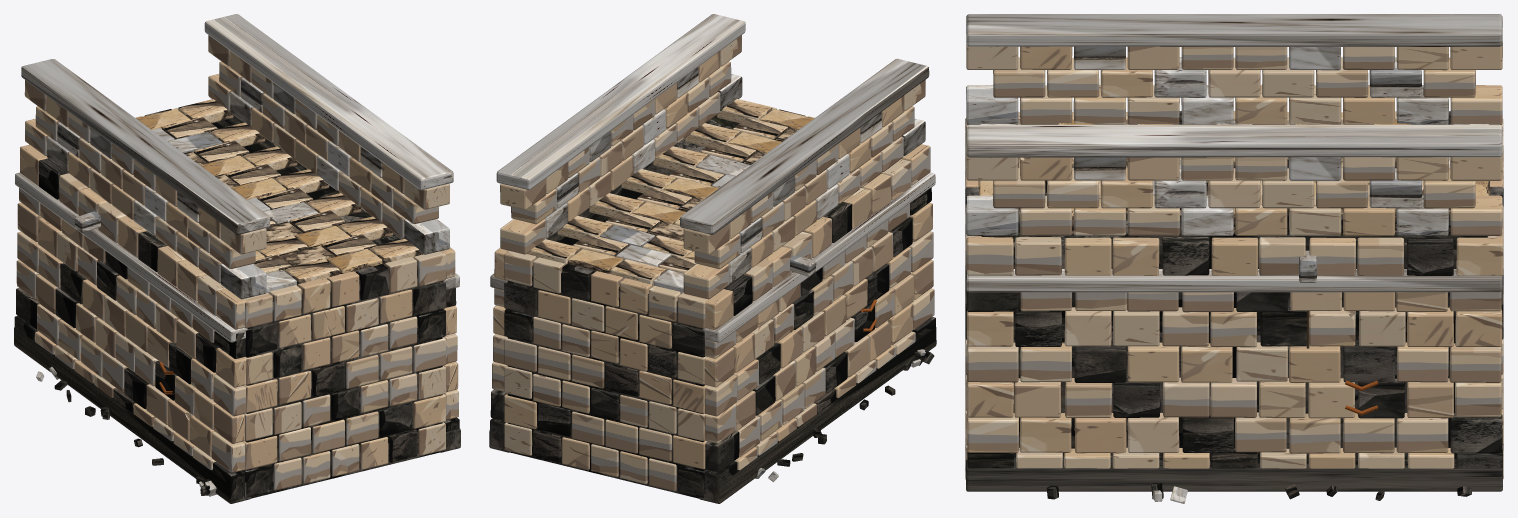
The model's file is fortress_wallwalk_straight_6m_LOD0.glb.
The picture shows the model from 3 angles, left to right: view 1: azimuth 30°, elevation 25°; view 2: azimuth 150°, elevation 25°; view 3: azimuth 270°, elevation 25°; orthographic projection. The views are drawn at different scales.
Visible parts, largest first — view 1: ParapetCoping.001, ParapetCoping, FortressRubbleHeart, BatteredFoundation, MarbleStringCourse, WallwalkParapetAshlar, WallwalkParapetAshlar.029, FortressFaceAshlar.011, FortressFaceAshlar.032, FortressEndAshlar.037, FortressEndAshlar.011, FortressEndAshlar.024 (+158 smaller); view 2: ParapetCoping, ParapetCoping.001, FortressRubbleHeart, BatteredFoundation, MarbleStringCourse, WallwalkParapetAshlar.009, WallwalkParapetAshlar.038, FortressFaceAshlar.020, FortressFaceAshlar.041, FortressFaceAshlar.073, FortressEndAshlar.053, FortressEndAshlar.069 (+158 smaller); view 3: ParapetCoping.001, ParapetCoping, BatteredFoundation.001, MarbleStringCourse.001, FortressRubbleHeart, FortressFaceAshlar.109, FortressFaceAshlar.094, FortressFaceAshlar.108, FortressFaceAshlar.113, FortressFaceAshlar.106, FortressFaceAshlar.112, FortressFaceAshlar.110 (+125 smaller).
Part boxes in pixels (x1,y1,x2,y2): ParapetCoping.001: (204, 14, 453, 190); ParapetCoping: (21, 59, 270, 234); FortressRubbleHeart: (68, 115, 442, 498); BatteredFoundation: (14, 327, 250, 503); MarbleStringCourse: (15, 172, 247, 342); WallwalkParapetAshlar: (220, 264, 266, 299); WallwalkParapetAshlar.029: (404, 219, 449, 254); FortressFaceAshlar.011: (211, 432, 245, 472); FortressFaceAshlar.032: (213, 375, 245, 416); FortressEndAshlar.037: (379, 289, 412, 323); FortressEndAshlar.011: (379, 402, 412, 436); FortressEndAshlar.024: (379, 346, 412, 380); ParapetCoping: (680, 58, 929, 234); ParapetCoping.001: (496, 14, 745, 189); FortressRubbleHeart: (507, 115, 782, 498); BatteredFoundation: (699, 327, 936, 503); MarbleStringCourse: (702, 172, 935, 342); WallwalkParapetAshlar.009: (683, 264, 729, 299); WallwalkParapetAshlar.038: (500, 219, 546, 254); FortressFaceAshlar.020: (705, 431, 739, 472); FortressFaceAshlar.041: (705, 375, 737, 416); FortressFaceAshlar.073: (705, 289, 733, 329); FortressEndAshlar.053: (672, 435, 707, 469); FortressEndAshlar.069: (571, 354, 604, 388); ParapetCoping.001: (966, 124, 1502, 157); ParapetCoping: (966, 14, 1502, 46); BatteredFoundation.001: (965, 458, 1502, 491); MarbleStringCourse.001: (966, 269, 1502, 292); FortressRubbleHeart: (981, 208, 1487, 457); FortressFaceAshlar.109: (1127, 342, 1179, 382); FortressFaceAshlar.094: (1450, 413, 1502, 453); FortressFaceAshlar.108: (1074, 343, 1126, 382); FortressFaceAshlar.113: (1343, 343, 1395, 382); FortressFaceAshlar.106: (967, 342, 1018, 382); FortressFaceAshlar.112: (1289, 346, 1340, 382); FortressFaceAshlar.110: (1181, 343, 1232, 382).
Size of the model in its own units: 4.21 by 4.31 by 6.01.
Materials: 6 (4 with a texture image).
